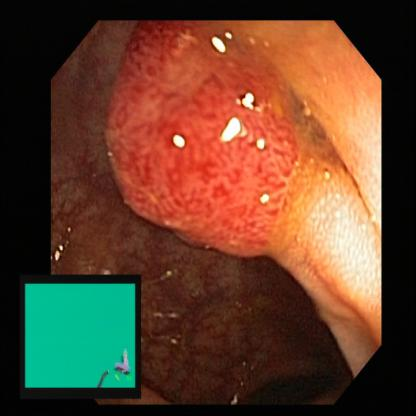Labels: (22, 273, 142, 399)
Polyps: (110, 19, 296, 255)
